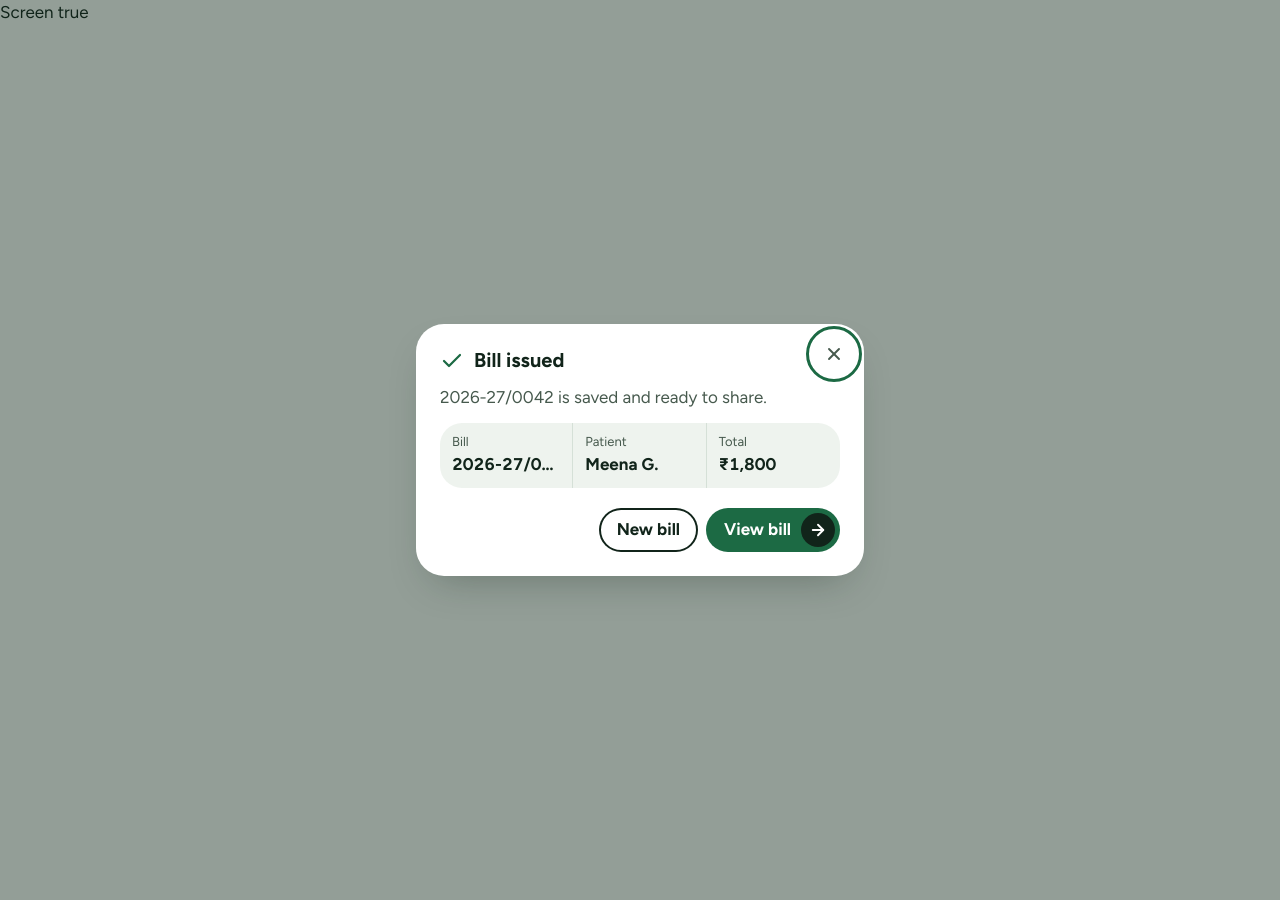
Test: a card with a next step › is a dialog with its facts, focused on its primary action
Check: the text "2026-27/0042 is saved and ready to share." is shown, box [440,387,767,407]
Click the button "New bill": [648, 530] box [599,508,698,552]
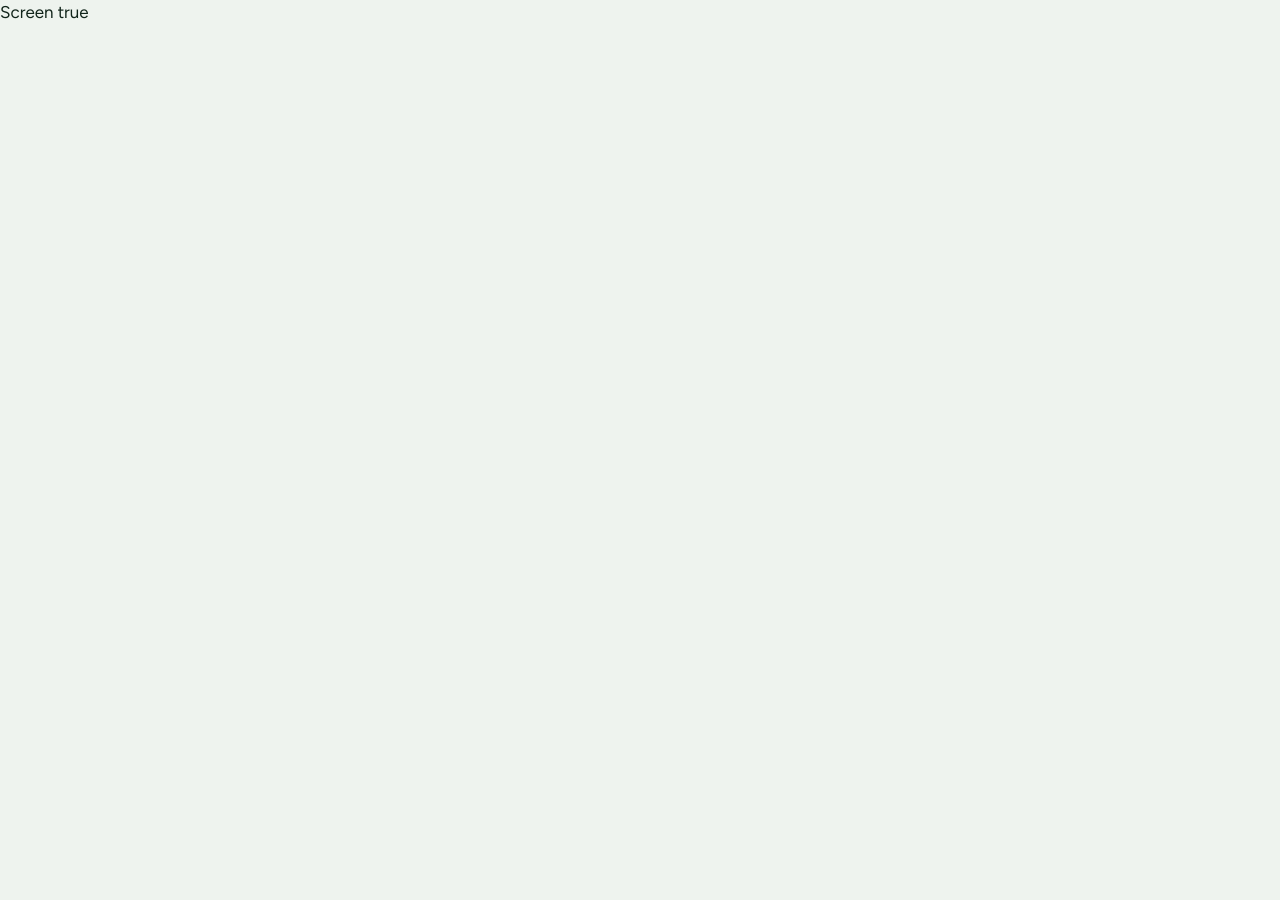
Check: the dialog is gone
